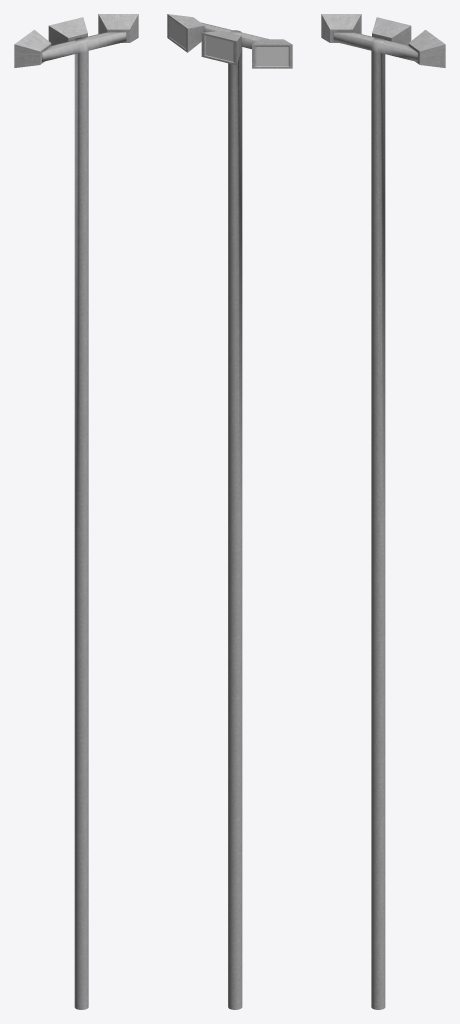
The model's file is AirportLight.gltf.
The picture shows the model from 3 angles, left to right: view 1: azimuth 30°, elevation 25°; view 2: azimuth 150°, elevation 25°; view 3: azimuth 330°, elevation 25°; orthographic projection.
Visible parts, largest first — view 1: AirportLight; view 2: AirportLight; view 3: AirportLight.
Boxes of the visible parts, x1,y1,x2,y2 form: AirportLight: (14,14,138,1009); AirportLight: (167,14,292,1009); AirportLight: (321,14,445,1009).
Bounding box in the file's own units: 2.78 × 20.83 × 0.7485.
1 material, 1 textured.
